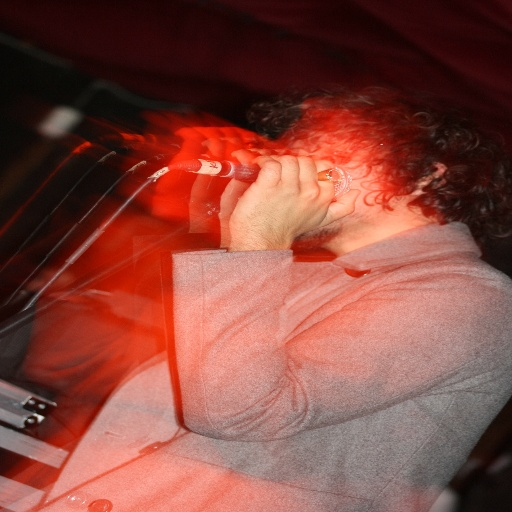hand: (225, 145, 354, 255)
